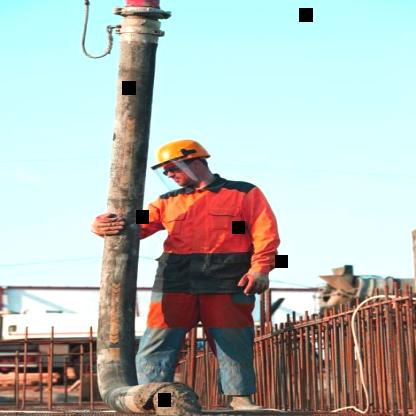helmet: (150, 136, 218, 186)
